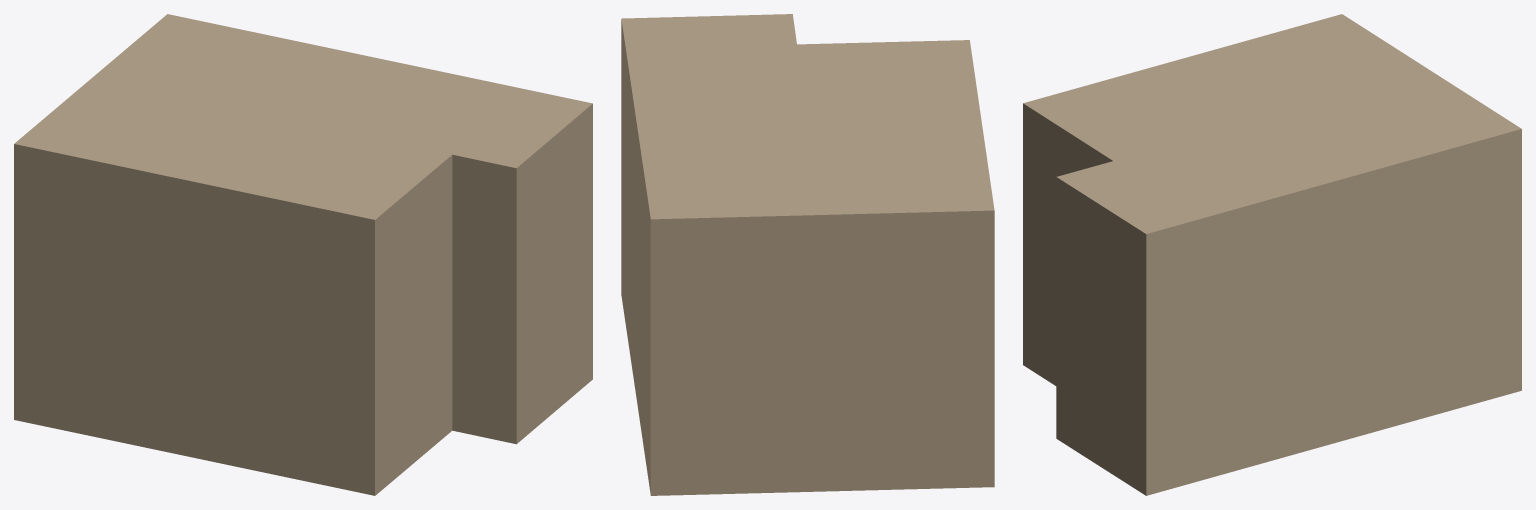
The model's file is bld_101979924.dae.
3 views of the same model, side by side, from view 1: azimuth 30°, elevation 25°; view 2: azimuth 150°, elevation 25°; view 3: azimuth 270°, elevation 25° (orthographic). The views are drawn at different scales.
Parts seen in each view (by area): view 1: bld_101979924; view 2: bld_101979924; view 3: bld_101979924.
Boxes of the visible parts, box(x1,y1,x2,y2) form: bld_101979924: box(14, 14, 592, 495); bld_101979924: box(621, 14, 994, 495); bld_101979924: box(1023, 14, 1521, 495).
Bounding box in the file's own units: 14.43 × 13.82 × 8.
